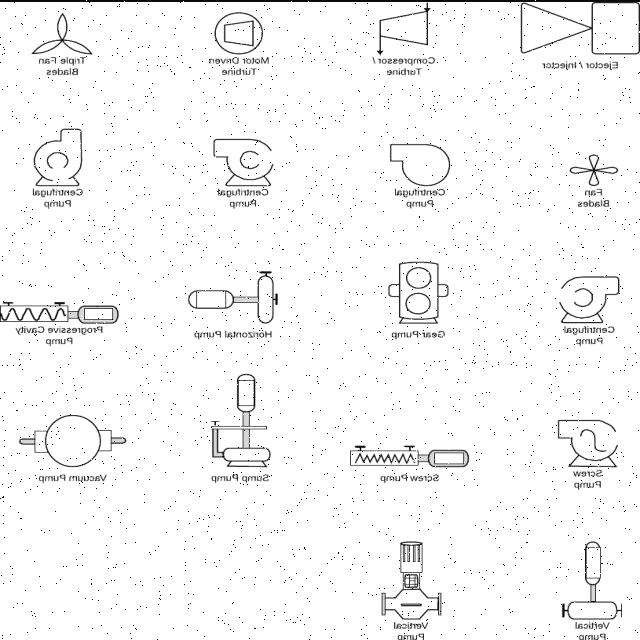Centrifugal Pump: (502, 252, 640, 322), (23, 116, 125, 186), (348, 132, 476, 184), (198, 120, 291, 186)
Compressor Turbine: (332, 0, 462, 58)
Ejector: (496, 1, 640, 58)
Fan Blades: (554, 144, 626, 188)
Gear Pump: (354, 244, 470, 324)
Horizontal Pump: (180, 263, 307, 321)
Motor Driven Turbine: (190, 4, 281, 54)
Progressive Cavity Pump: (0, 288, 133, 322)
Screw Pump: (521, 396, 640, 471), (334, 436, 496, 469)
Sump Pump: (187, 348, 309, 465)
Triple Fan Blade: (8, 1, 122, 56)
Vaccum Pump: (9, 396, 136, 464)
Vertical Pump: (348, 518, 483, 618), (512, 526, 638, 620)
